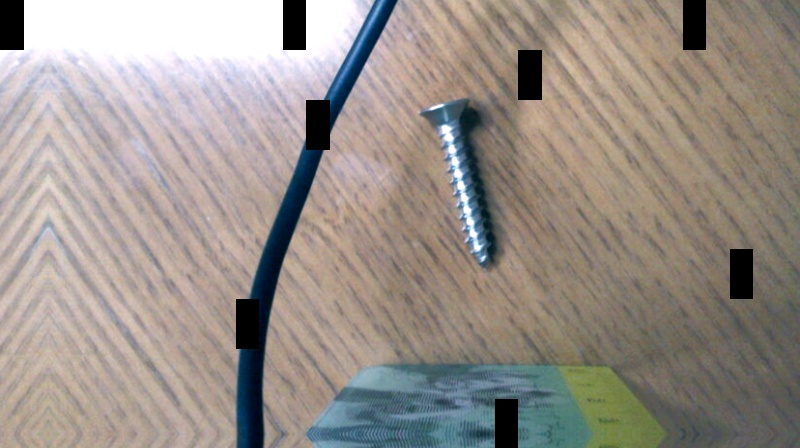S001: (415, 93, 499, 269)
